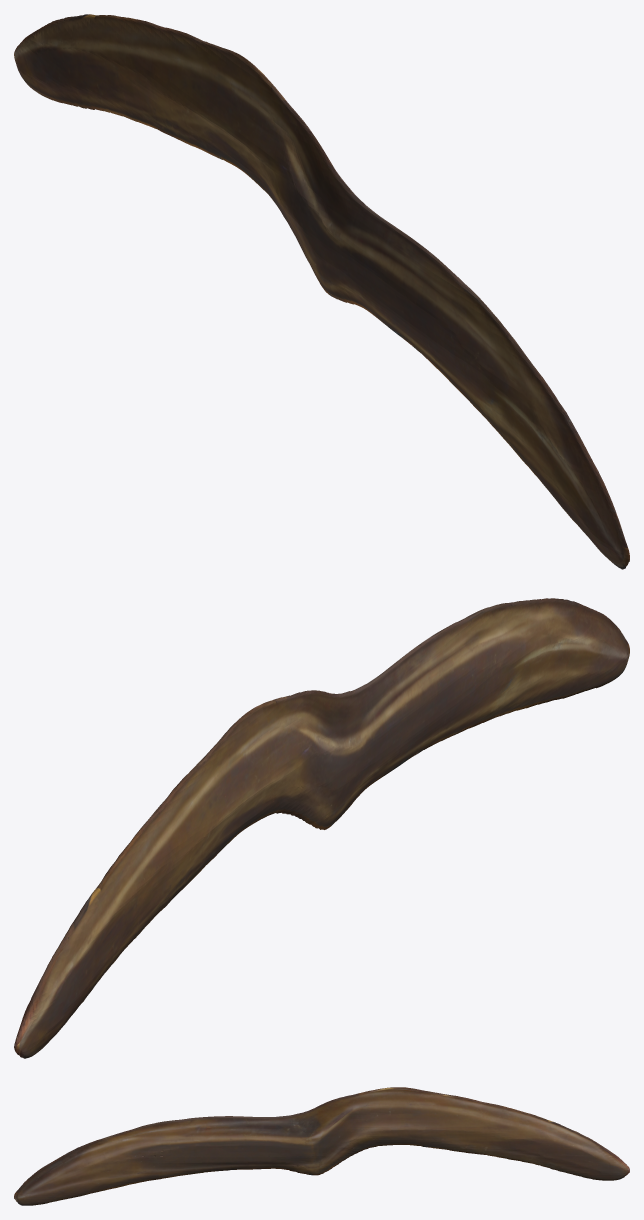
Rendered from a_boomerang_0329185147_texture.fbx.
3 renders of one model, top to bottom at view 1: azimuth 30°, elevation 25°; view 2: azimuth 150°, elevation 25°; view 3: azimuth 270°, elevation 25°, orthographic. The views are drawn at different scales.
Parts seen in each view (by area): view 1: temp; view 2: temp; view 3: temp.
Part boxes in pixels (x1=…): temp: x1=14, y1=14, x2=629, y2=569; temp: x1=14, y1=598, x2=629, y2=1058; temp: x1=14, y1=1087, x2=629, y2=1205.
Bounding box in the file's own units: 4.29 × 42.25 × 199.
1 material, 1 textured.
